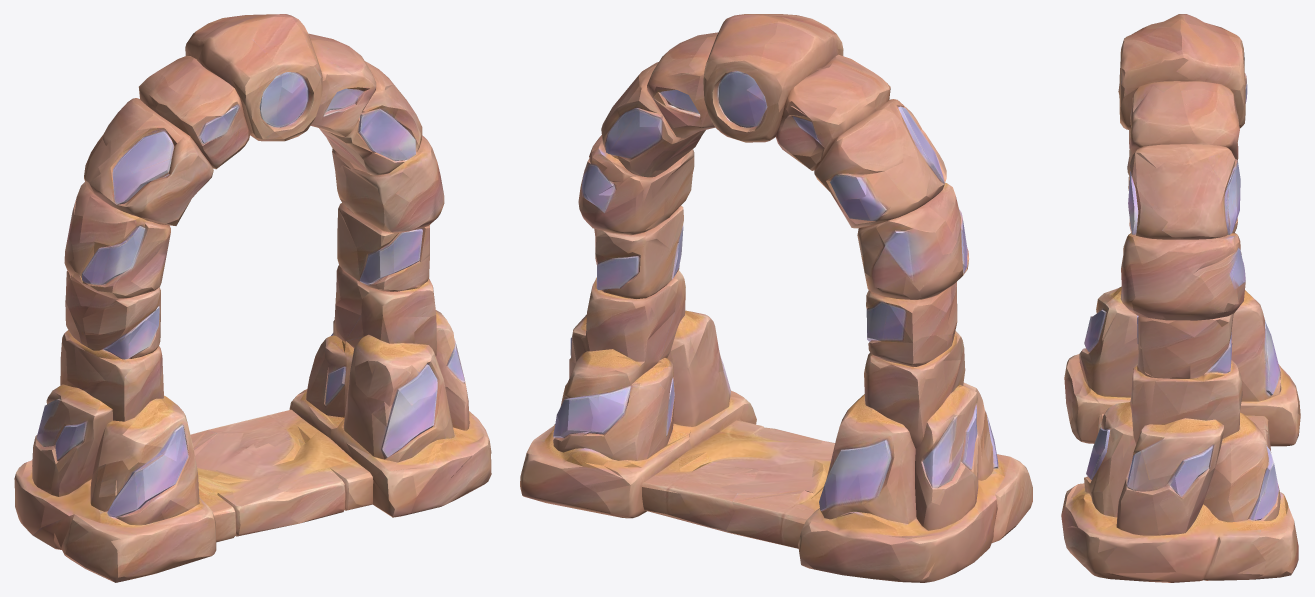
Rendered from portale-deserto-specchi.glb.
The picture shows the model from 3 angles, left to right: view 1: azimuth 30°, elevation 25°; view 2: azimuth 150°, elevation 25°; view 3: azimuth 270°, elevation 25°; orthographic projection. The views are drawn at different scales.
Size of the model in its own units: 1.75 by 1.9 by 0.8939.
1 material, 1 textured.
